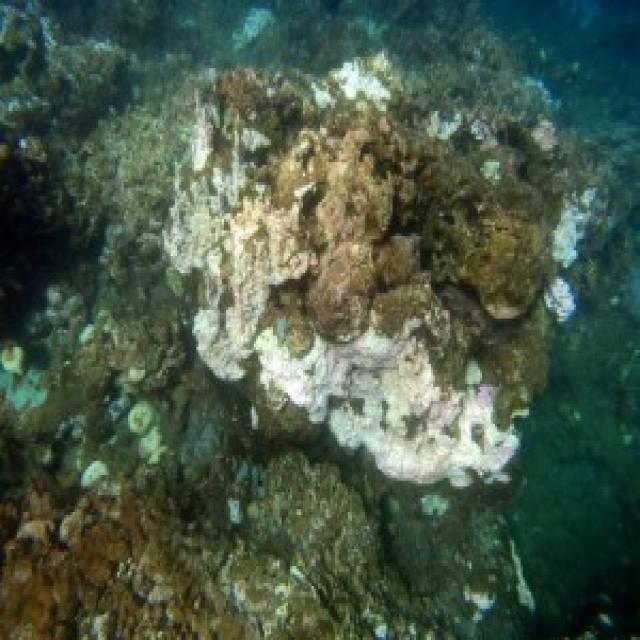Bleached: (1, 15, 197, 274), (256, 324, 525, 489), (169, 99, 309, 378), (426, 106, 504, 199), (307, 47, 398, 120), (547, 198, 590, 329), (1, 343, 49, 419), (1, 1, 60, 57), (131, 403, 171, 466), (514, 537, 543, 618), (229, 8, 279, 51), (466, 583, 498, 630), (562, 1, 607, 33), (348, 16, 392, 43), (535, 116, 560, 153), (81, 461, 108, 489), (627, 266, 640, 324), (91, 35, 125, 57), (424, 496, 449, 519)
Healthy: (206, 71, 554, 429), (1, 487, 507, 640), (250, 1, 522, 68), (556, 122, 640, 336), (37, 289, 199, 388), (17, 386, 138, 487)
